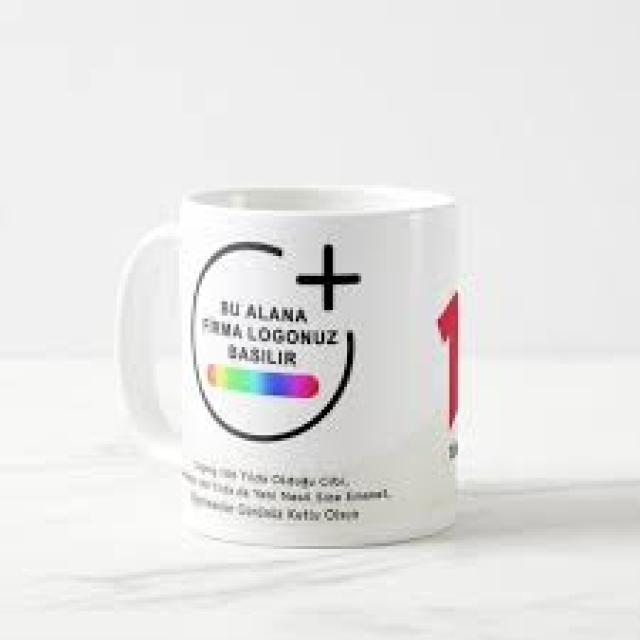taza: (116, 186, 460, 550)
